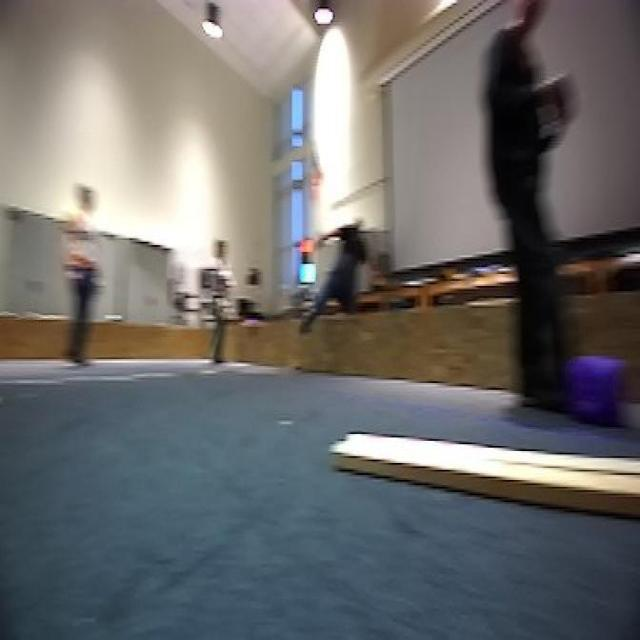frc_cube: (566, 356, 628, 439)
